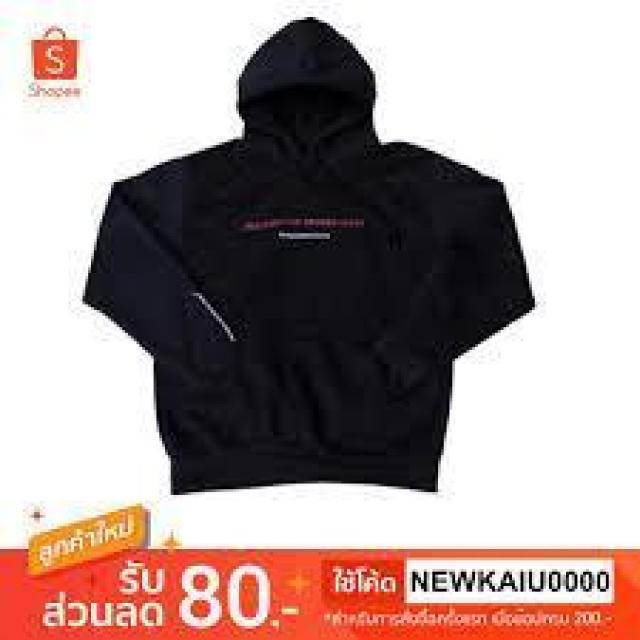sweater: (77, 17, 557, 509)
